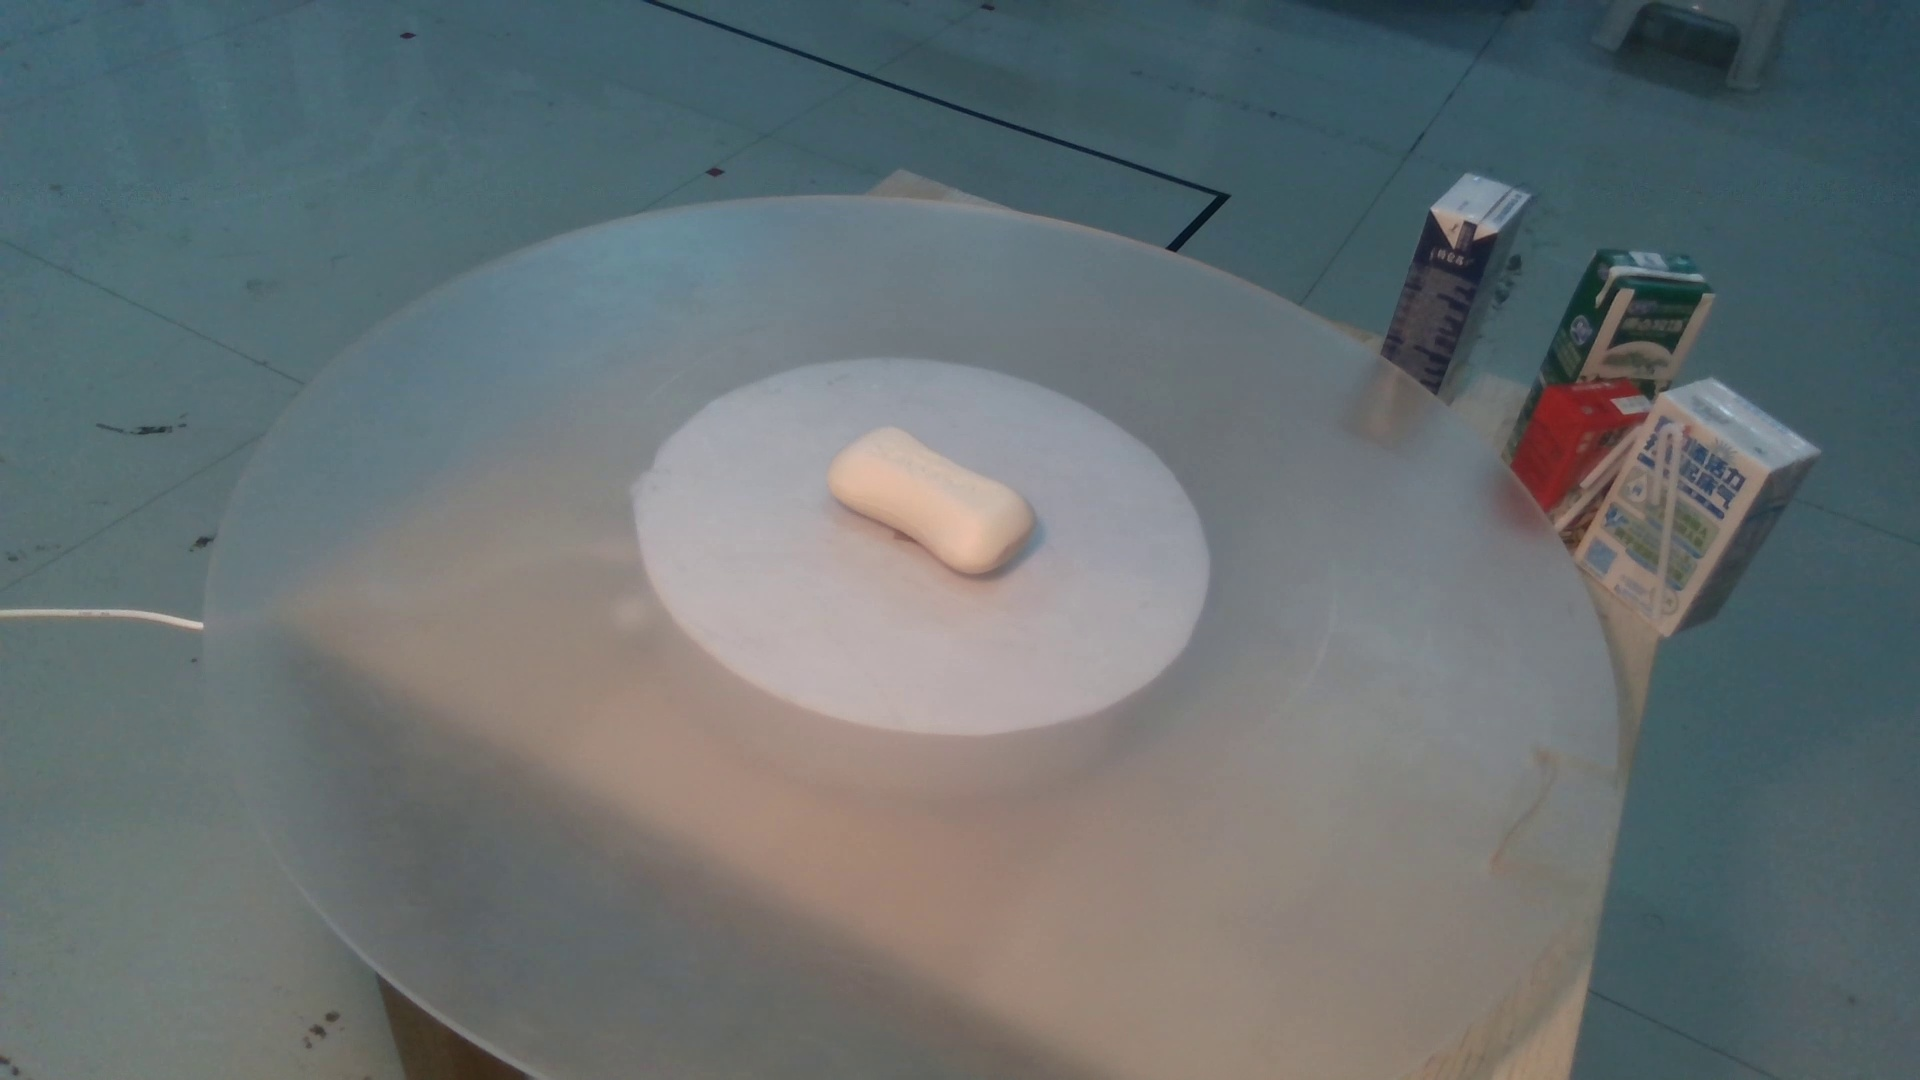CA003_1: (781, 404, 1112, 626)
